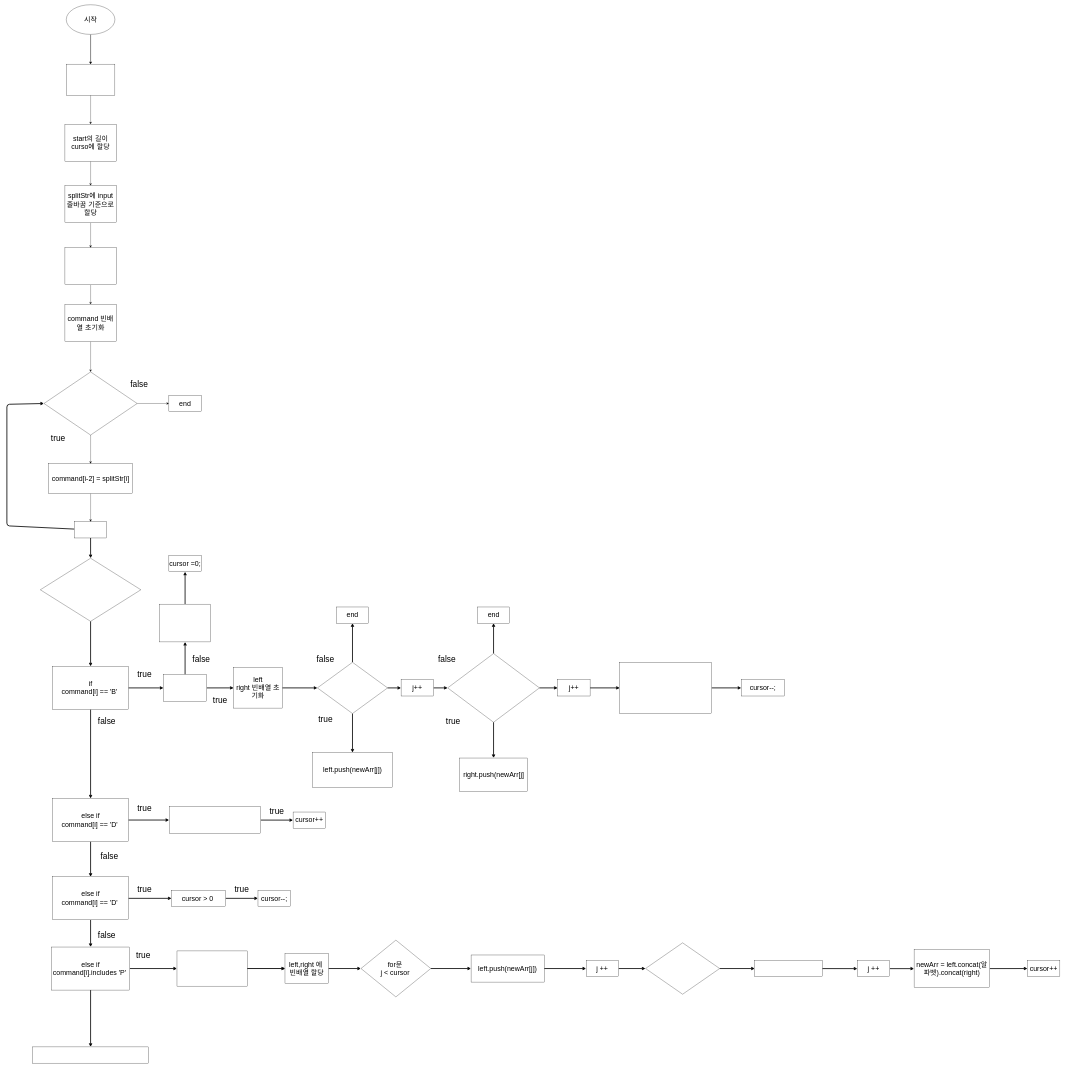
This 1065x1068 diagram has some shape labels left out. Each missing label, with the box of its shape:
console.log(newArr.join('')): (32, 1047, 149, 1063)
for 문 let i = 0; i < command.lenght: (40, 558, 141, 621)
for 문 let i = 2; i < splitStr.length: (44, 372, 137, 435)
for문 j = cursor: (645, 943, 720, 994)
for문 let j = 0; j < cursor-1;: (317, 662, 388, 714)
for문 let j = cursor; j < newArr.length: (447, 653, 539, 722)
i++: (74, 522, 107, 538)
if cursor > 0: (163, 674, 207, 701)
if(cursor < newArr.length): (169, 806, 261, 834)
if(cursor <= 0): (159, 604, 211, 642)
input에 첫번째 값 start에 할당: (66, 64, 115, 95)
newArr = left.concat(right): (620, 662, 712, 714)
newArr = start 초기화: (65, 247, 116, 285)
right.push(newArr[j]): (755, 960, 822, 977)
알파벳에command.split(' ')[1]: (177, 951, 247, 986)
